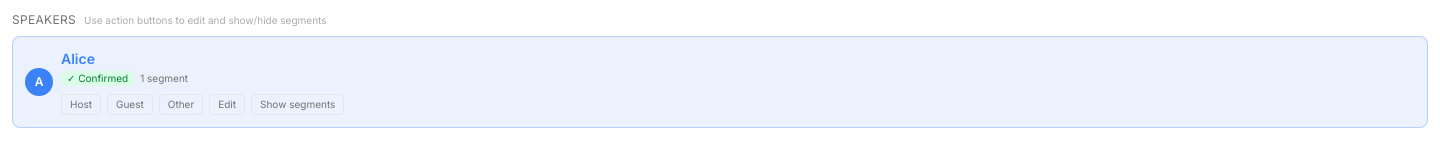
Test: SpeakerPanel — additional branches › exits edit without a request when an unchanged name is confirmed
The width and height of the screenshot is (1440, 160).
Click the button with aria-label "edit alice" at (227, 104), box [209,94,245,115]
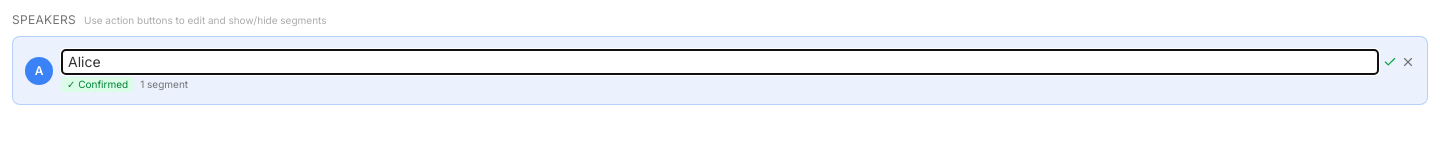
Press Enter in the field showing "Alice", box [61,49,1379,75]
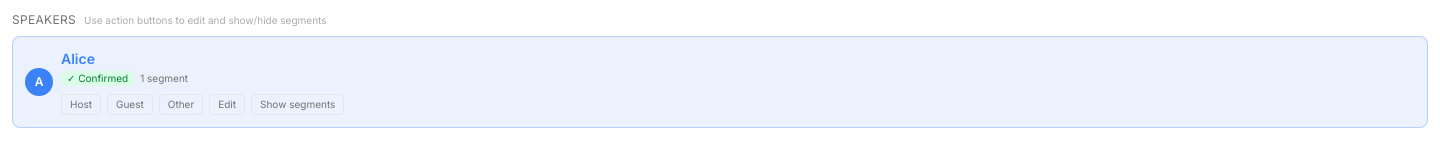
Now the text "Alice" is shown, box [61,50,95,67]
